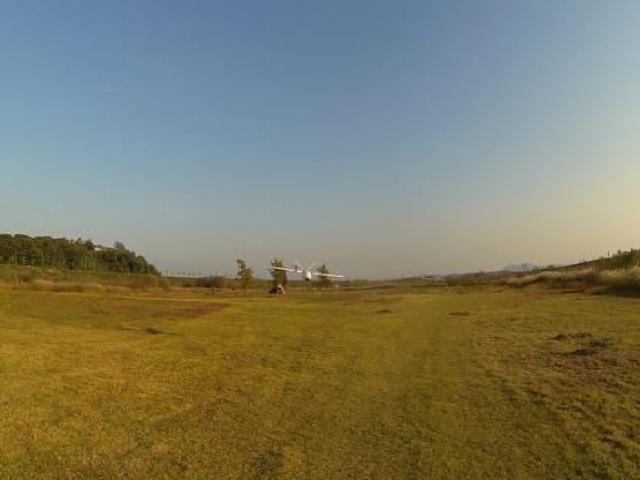uav: (260, 251, 349, 292)
